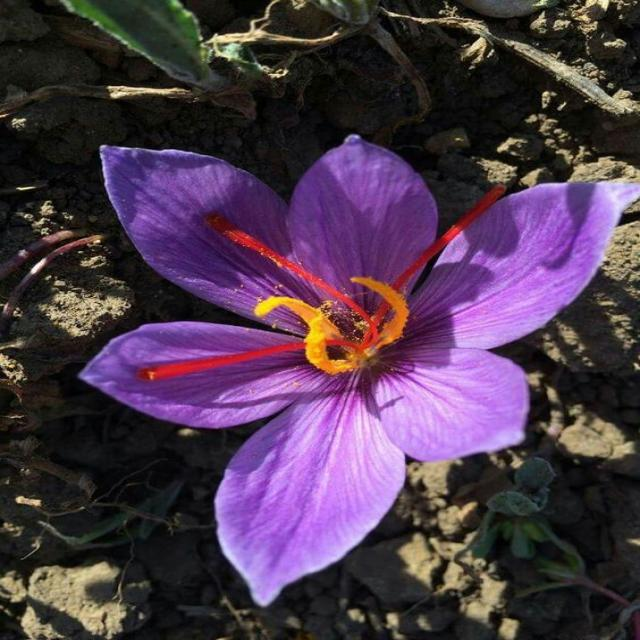Flower: (82, 136, 638, 604)
stigma: (205, 196, 367, 321), (388, 172, 509, 309), (128, 340, 307, 384)
